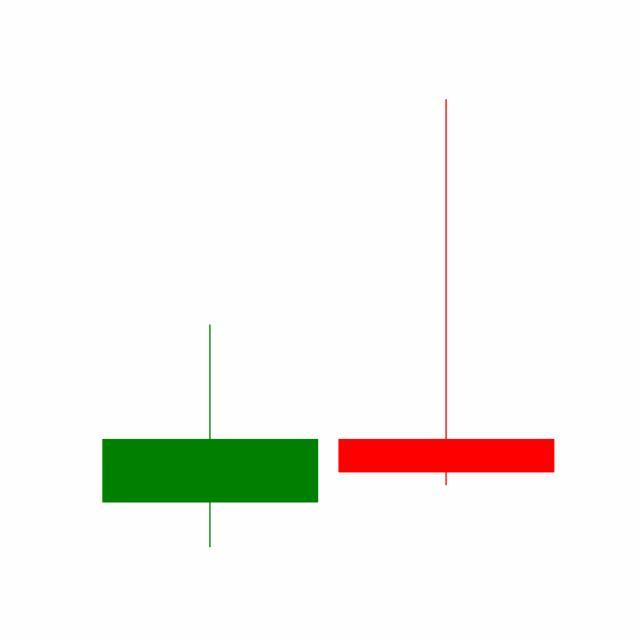Gravestone Doji: (328, 95, 566, 490)
